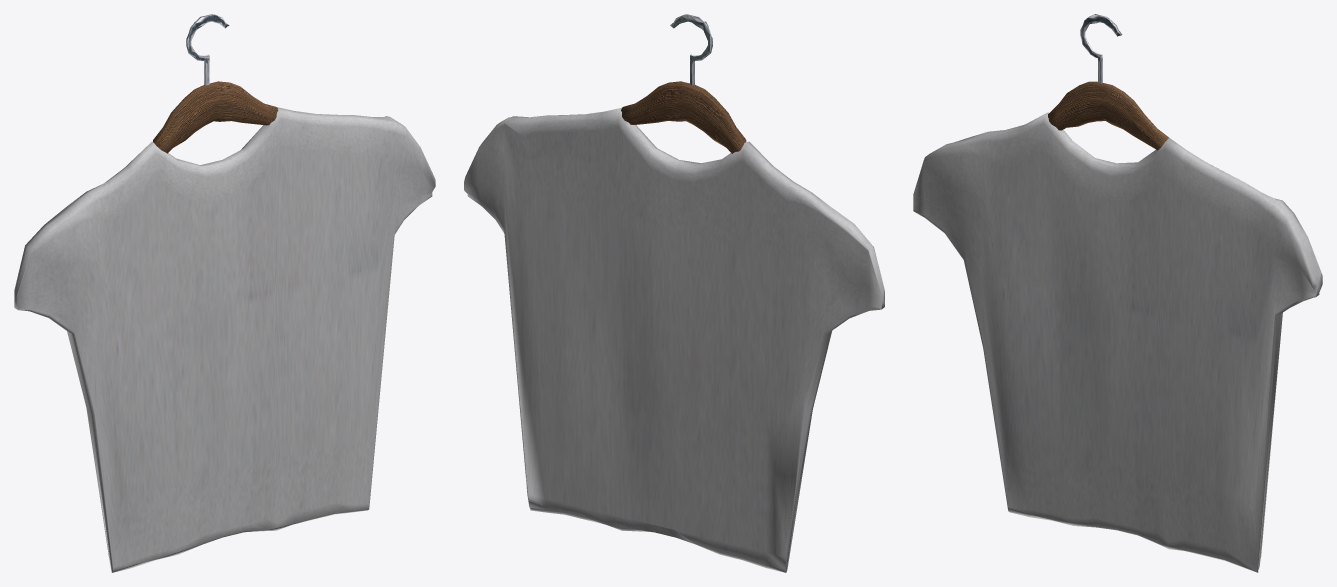
File: plaggy-tshirt.glb
3 renders of one model, left to right at view 1: azimuth 30°, elevation 25°; view 2: azimuth 150°, elevation 25°; view 3: azimuth 330°, elevation 25°, orthographic. The views are drawn at different scales.
Parts seen in each view (by area): view 1: MB_T_ShirtHanger_bmp001; view 2: MB_T_ShirtHanger_bmp001; view 3: MB_T_ShirtHanger_bmp001.
Part boxes in pixels (x1=…): MB_T_ShirtHanger_bmp001: x1=14, y1=14, x2=435, y2=572; MB_T_ShirtHanger_bmp001: x1=464, y1=14, x2=884, y2=572; MB_T_ShirtHanger_bmp001: x1=913, y1=14, x2=1322, y2=572.
Bounding box in the file's own units: 0.8118 × 1 × 0.0353.
3 materials, 3 textured.
